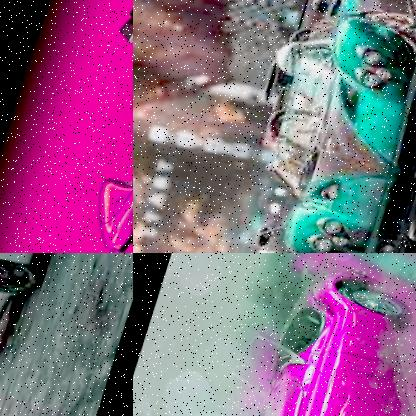bike: (52, 0, 133, 253)
car: (218, 0, 416, 253), (178, 253, 416, 416), (0, 253, 84, 382)
